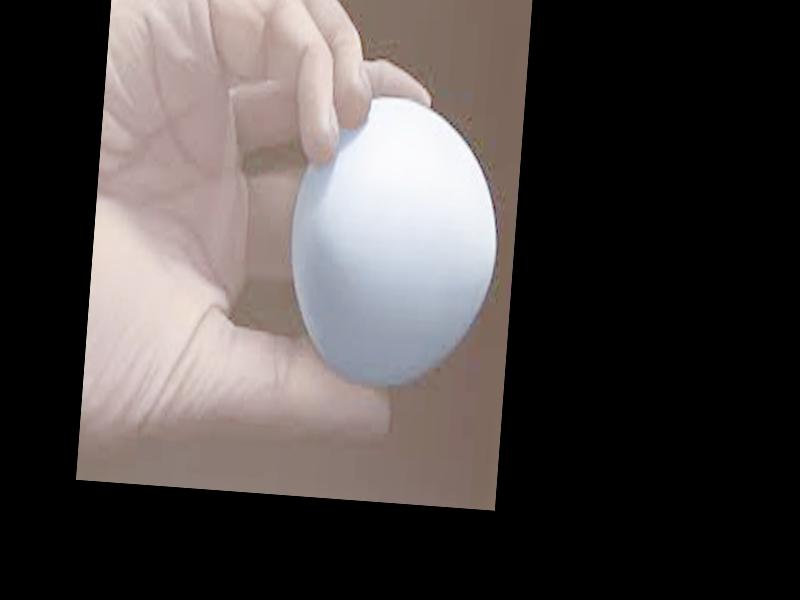Eggs: (284, 88, 508, 391)
